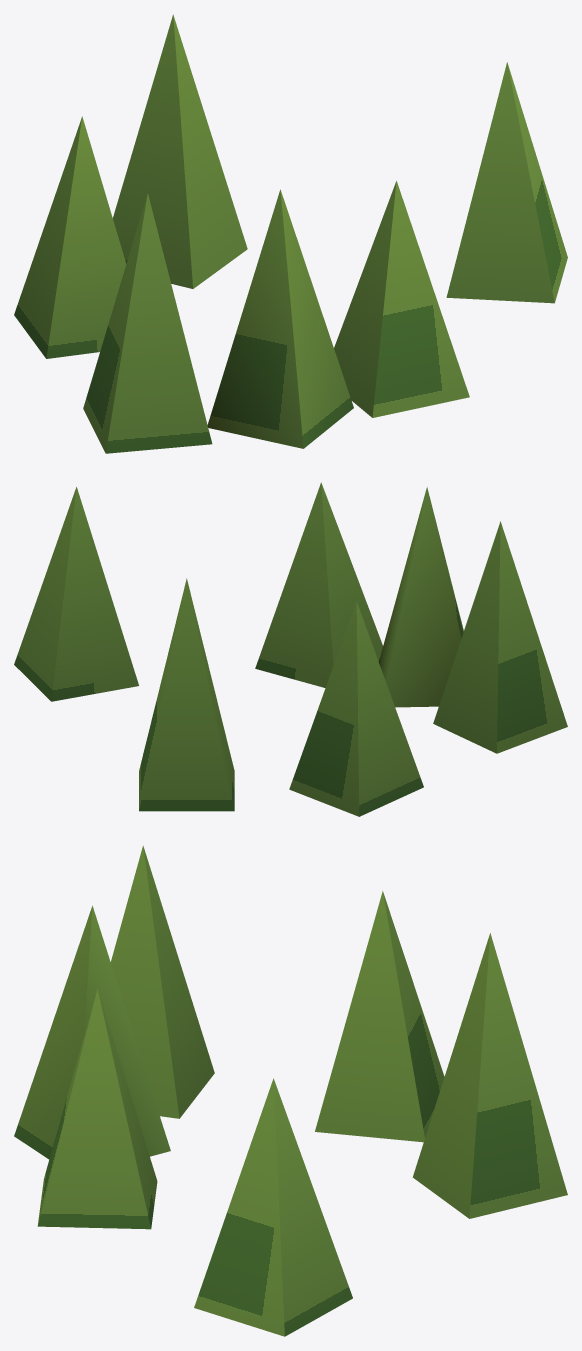
Rendered from mnat.flowers__tufts.glb.
The picture shows the model from 3 angles, top to bottom: view 1: azimuth 30°, elevation 25°; view 2: azimuth 150°, elevation 25°; view 3: azimuth 270°, elevation 25°; orthographic projection. The views are drawn at different scales.
Visible parts, largest first — view 1: kit_plants; view 2: kit_plants; view 3: kit_plants.
Part boxes in pixels (x1,y1,x2,y2): kit_plants: (14, 14, 567, 453); kit_plants: (14, 482, 567, 816); kit_plants: (14, 845, 567, 1336).
Bounding box in the file's own units: 1.31 × 0.5569 × 1.1.
Materials: 1 (1 with a texture image).
